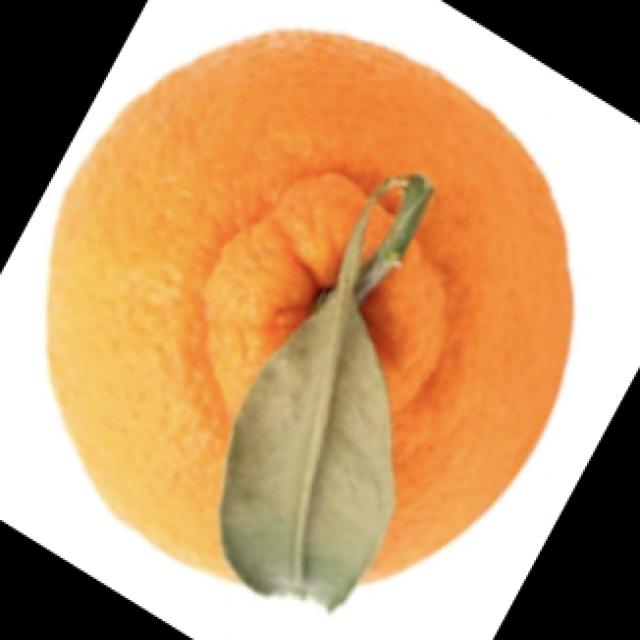fresh: (32, 23, 579, 604)
